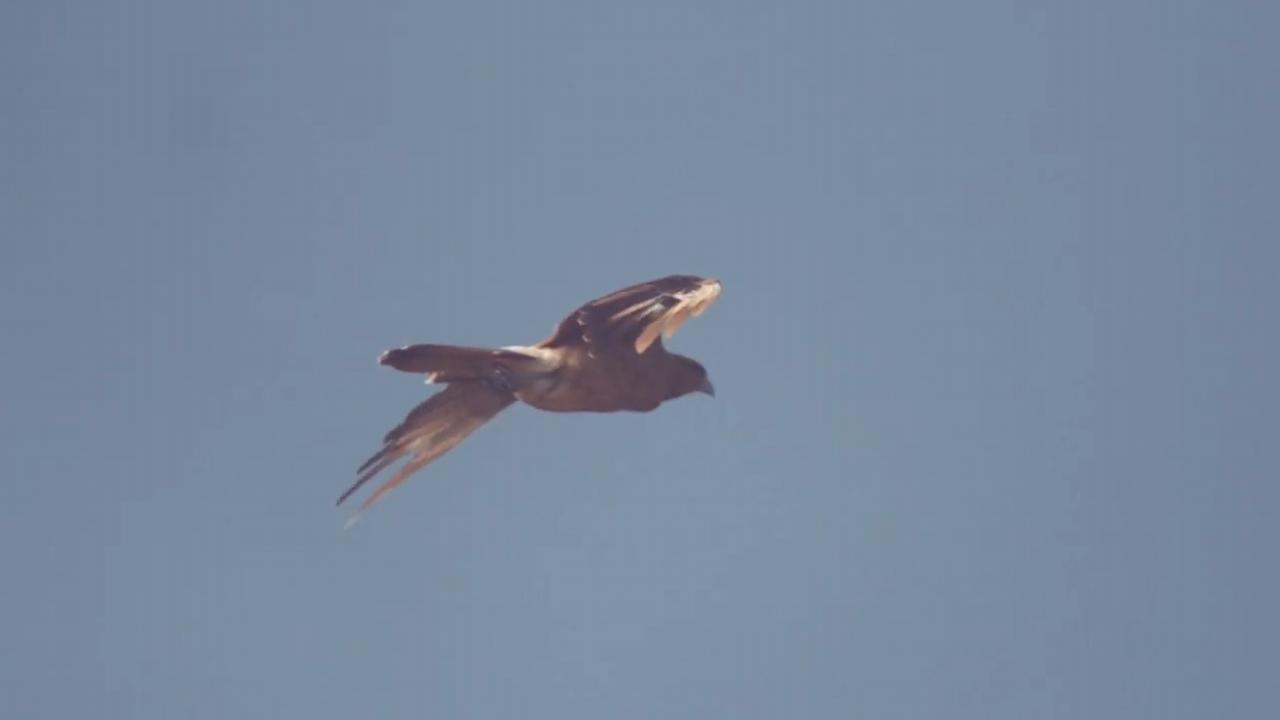Bird: (318, 264, 752, 536)
